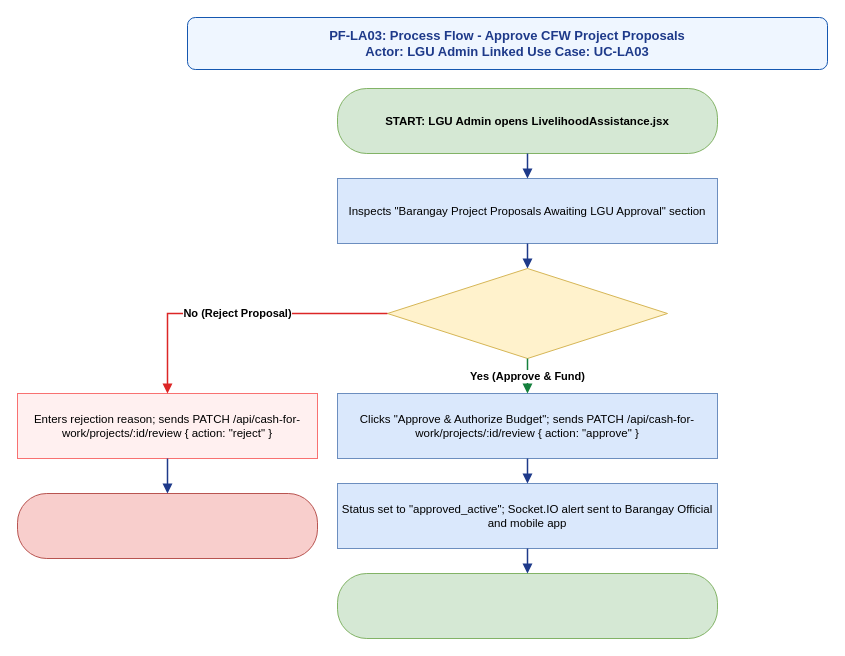
The diagram is 845 pixels wide and 656 high, and some of its shapes have lost their labels. Here are the shapes that lost their labels. From the top down, the centre of each, then its label:
the point at 527,313: Authorize budget & approve project?
the point at 167,525: END: Project proposal rejected; proposing Barangay notified
the point at 527,605: END: Project funded & active; citizens can now apply on mobile app
